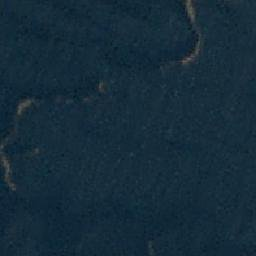debris: (1, 139, 16, 191), (183, 2, 202, 35), (12, 97, 38, 119), (185, 38, 204, 62), (94, 80, 107, 96), (31, 146, 40, 157)
